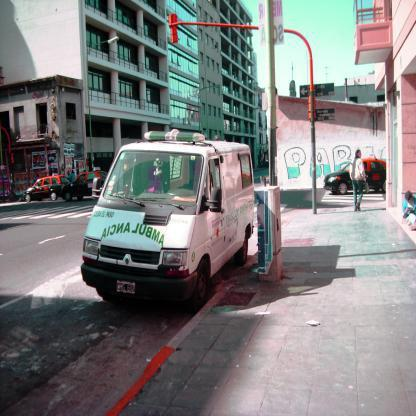ambulance_off: (83, 128, 252, 310)
